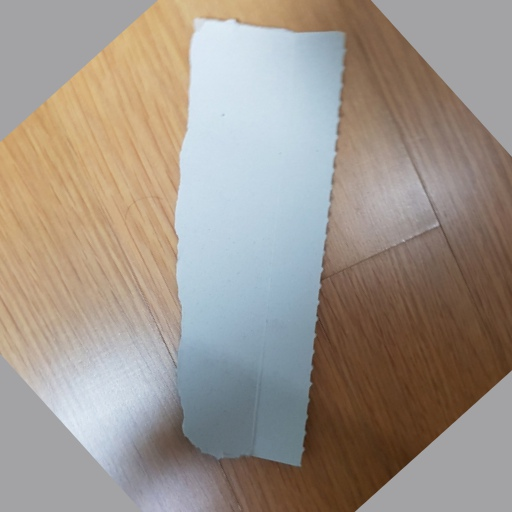Paper_2: (169, 11, 351, 470)
